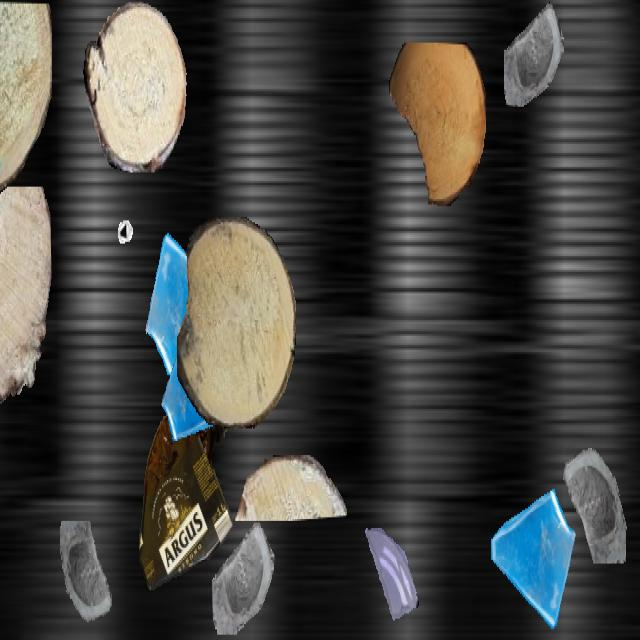glass: (143, 220, 235, 384), (487, 478, 577, 638), (553, 426, 629, 562), (55, 521, 121, 638), (161, 338, 225, 452), (212, 523, 274, 633), (504, 2, 564, 108), (362, 524, 420, 628)
metal: (115, 190, 153, 258)
plastic: (139, 398, 233, 590)
wood: (177, 217, 295, 427), (83, 2, 187, 172), (389, 43, 485, 206), (0, 187, 51, 414), (0, 2, 52, 194), (233, 455, 347, 519)
